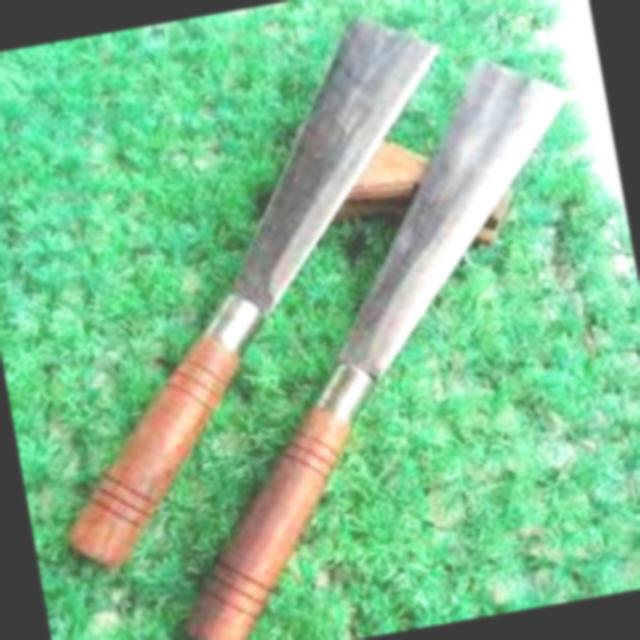eto: (61, 10, 452, 571)
